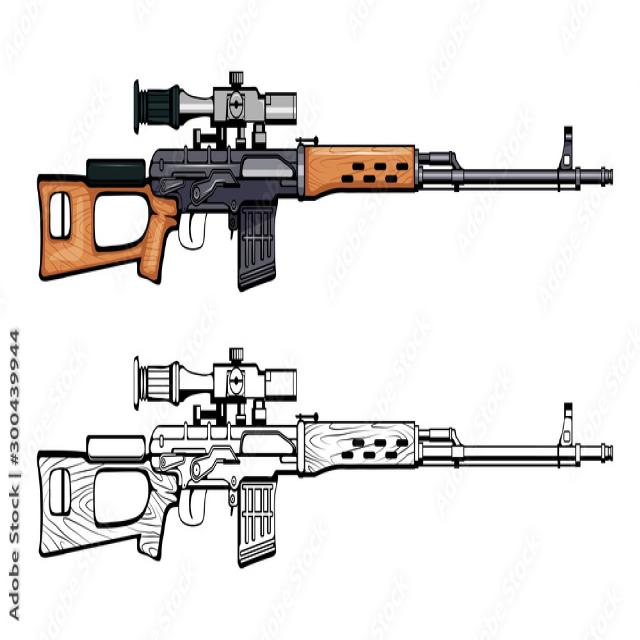Rifle: (37, 69, 617, 294), (37, 346, 617, 570)
